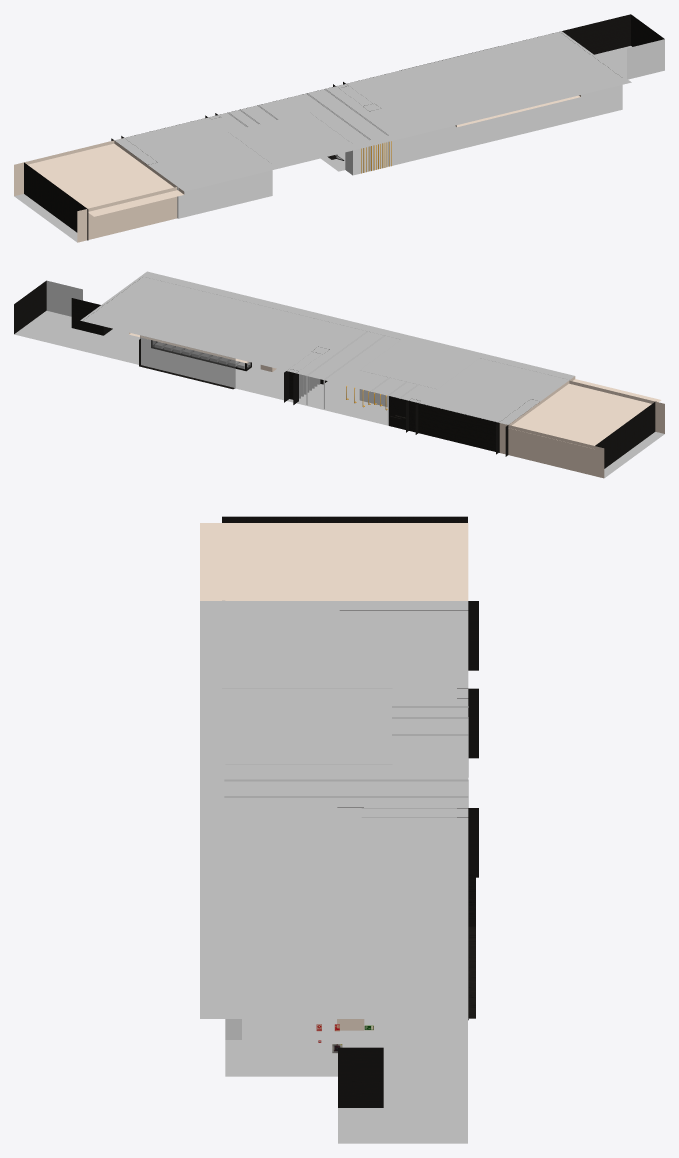
File: salaReyesEuropa.FBX
The picture shows the model from 3 angles, top to bottom: view 1: azimuth 30°, elevation 25°; view 2: azimuth 150°, elevation 25°; view 3: azimuth 270°, elevation 25°; orthographic projection. The views are drawn at different scales.
Visible parts, largest first — view 1: salaReyesEuropa, trompetas; view 2: salaReyesEuropa, Glass_Sala_ReyesdeEuropa, pedestal, separador; view 3: salaReyesEuropa.
Boxes of the visible parts, x1=… form: salaReyesEuropa: x1=14, y1=14, x2=664, y2=242; trompetas: x1=361, y1=141, x2=391, y2=173; salaReyesEuropa: x1=14, y1=271, x2=664, y2=478; Glass_Sala_ReyesdeEuropa: x1=140, y1=335, x2=250, y2=388; pedestal: x1=155, y1=342, x2=248, y2=368; separador: x1=289, y1=358, x2=320, y2=398; salaReyesEuropa: x1=200, y1=516, x2=478, y2=1143.
Bounding box in the file's own units: 2420 × 121 × 496.
